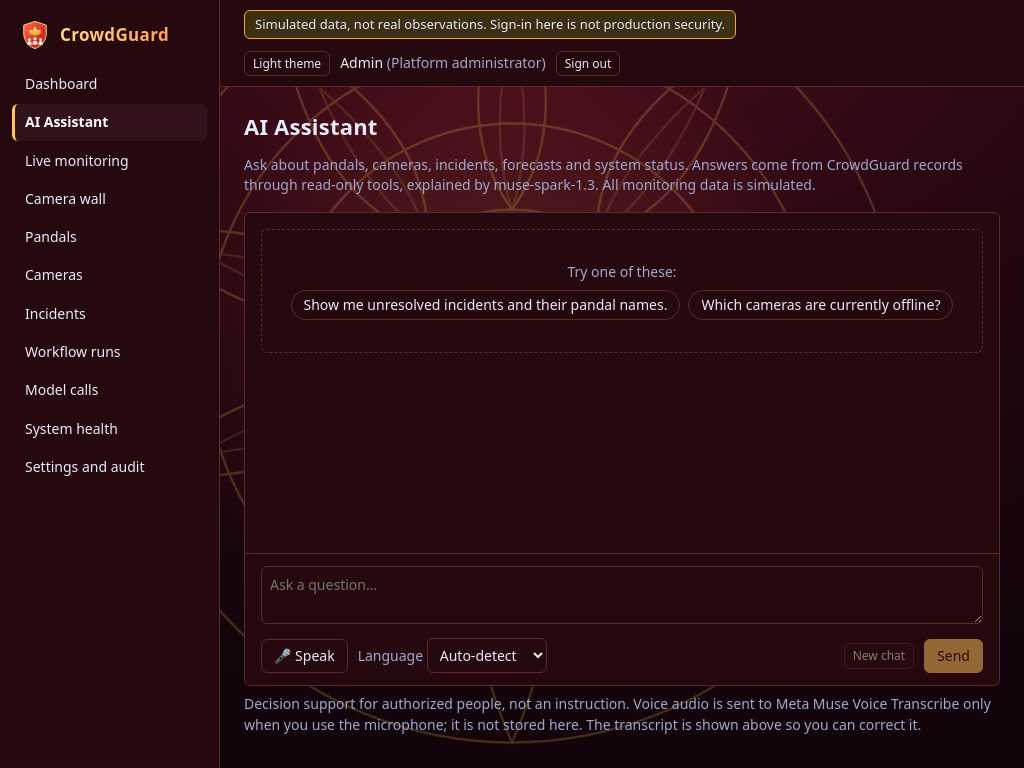
Test: Assistant page › shows an error with a working Retry
Type "hello" into the text box named "Your question". click: {"x": 622, "y": 595}
box: [261, 566, 983, 624]
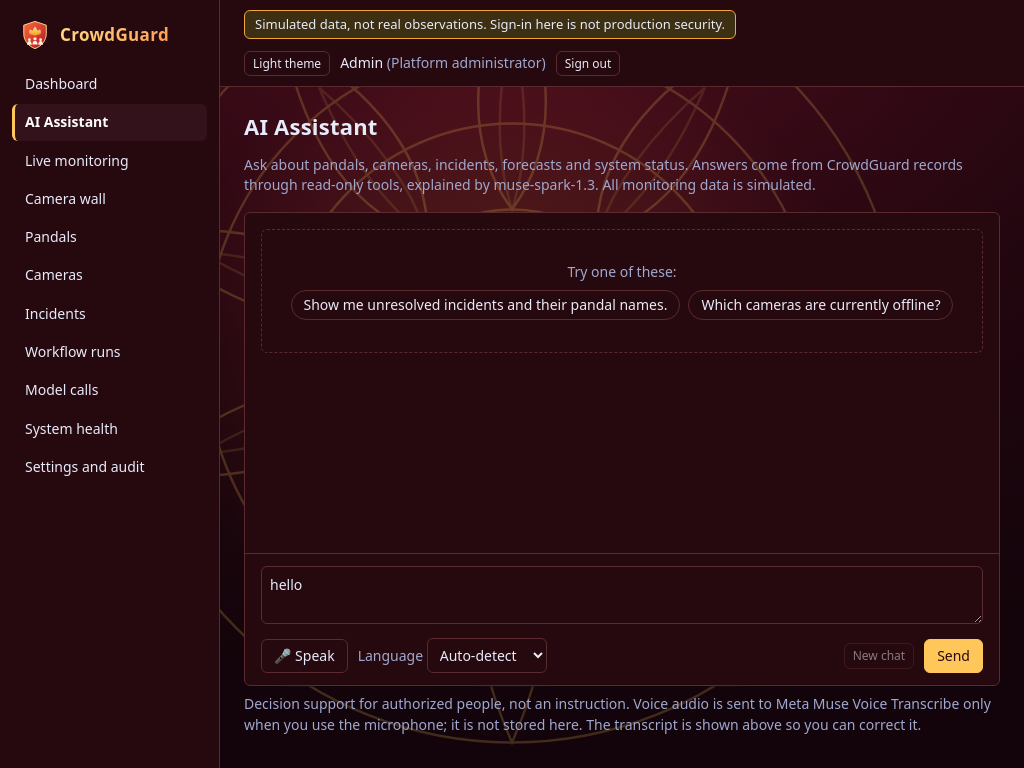
Click the button "Send". click: {"x": 954, "y": 656}
box: [924, 639, 983, 673]
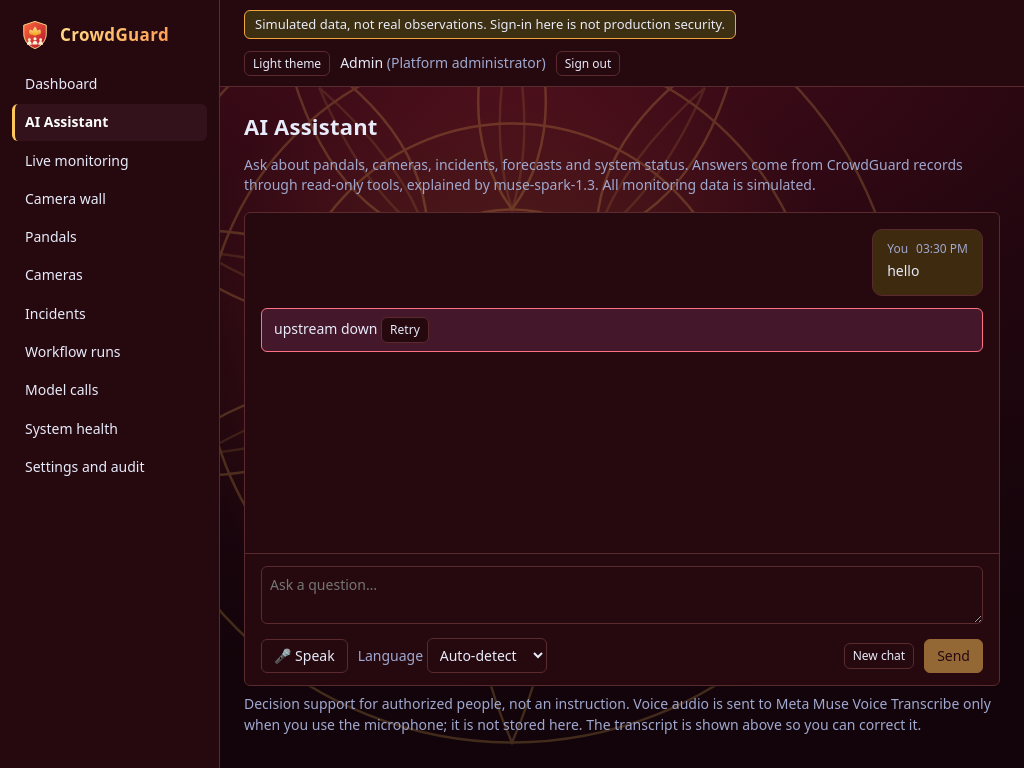
Check: the text "upstream down Retry" is shown, box [261, 308, 983, 352]
Click the button "Retry". click: {"x": 405, "y": 330}
box: [381, 317, 429, 343]
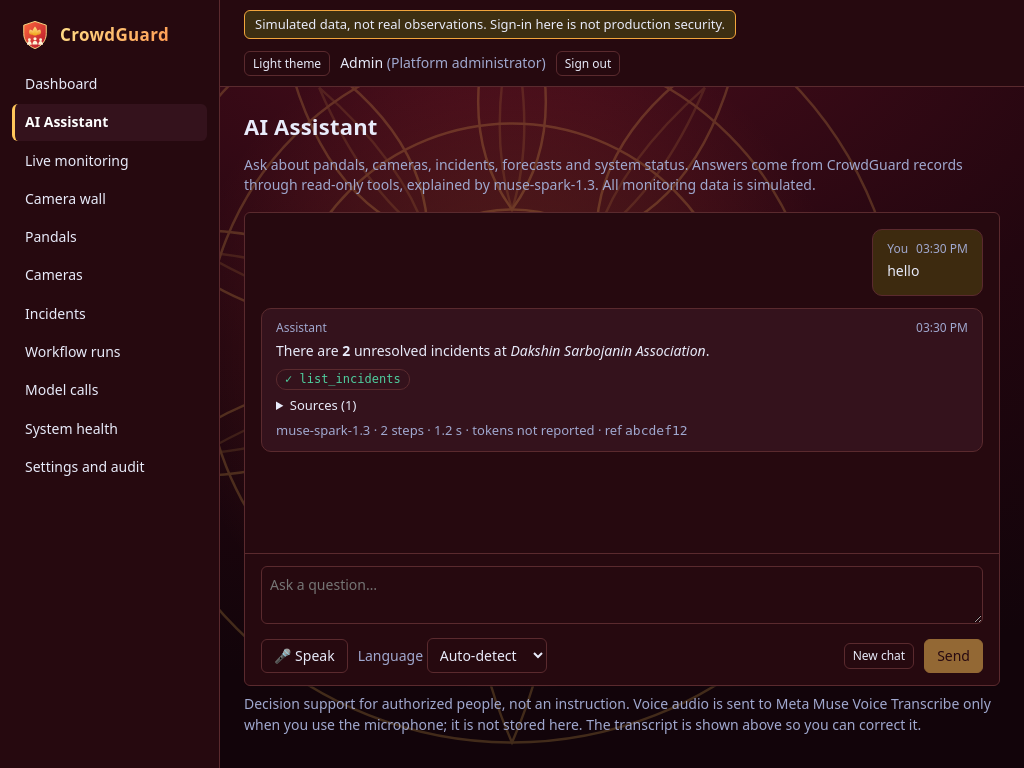
Check: the text "unresolved incidents at" is shown, box [350, 341, 510, 360]
